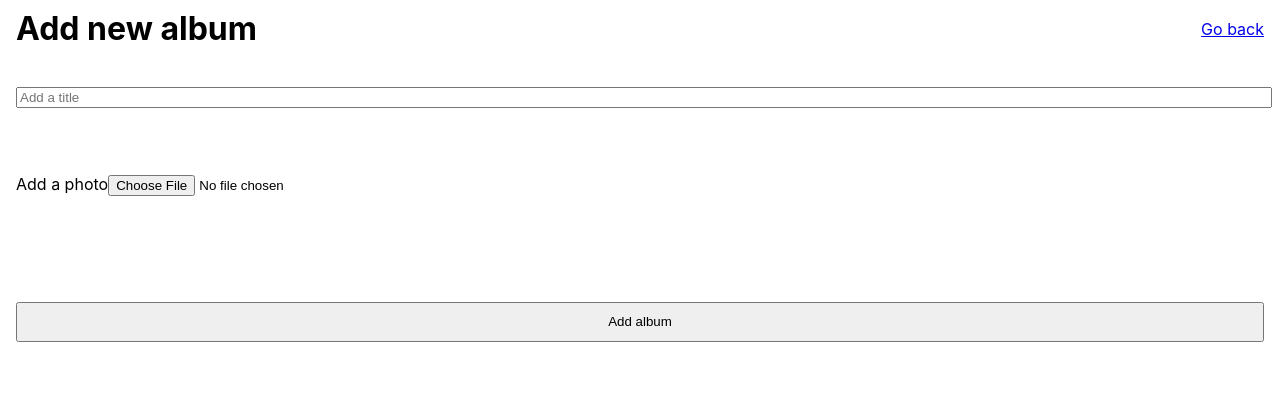
Test case: AddAlbumPage › allows the user to create a new album › when the user submits an album › when the album is invalid › shows an error
Type "new-title" into the field with placeholder "Add a title".
click(644, 97); type("new-title")  # box [16,87,1272,108]
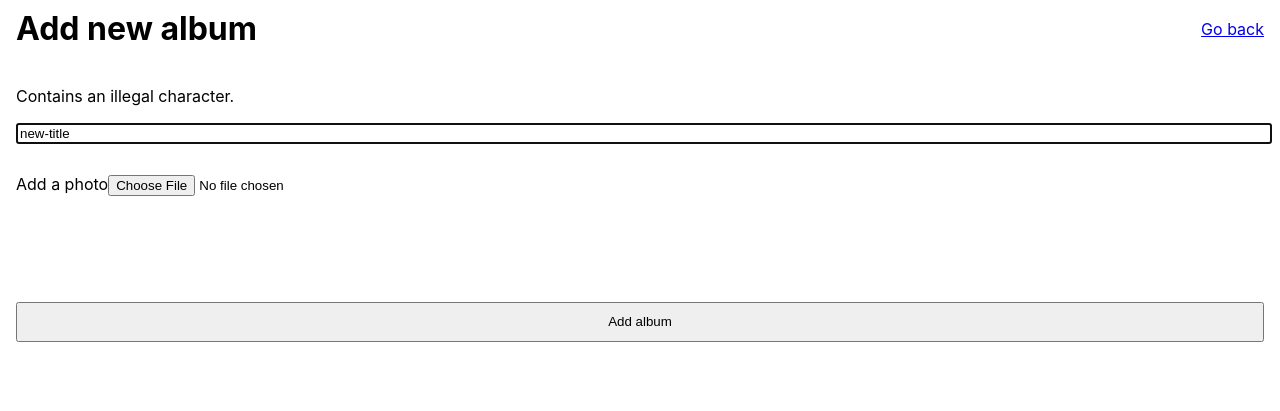
Click the button "Add album".
click(640, 322)  # box [16,302,1264,342]
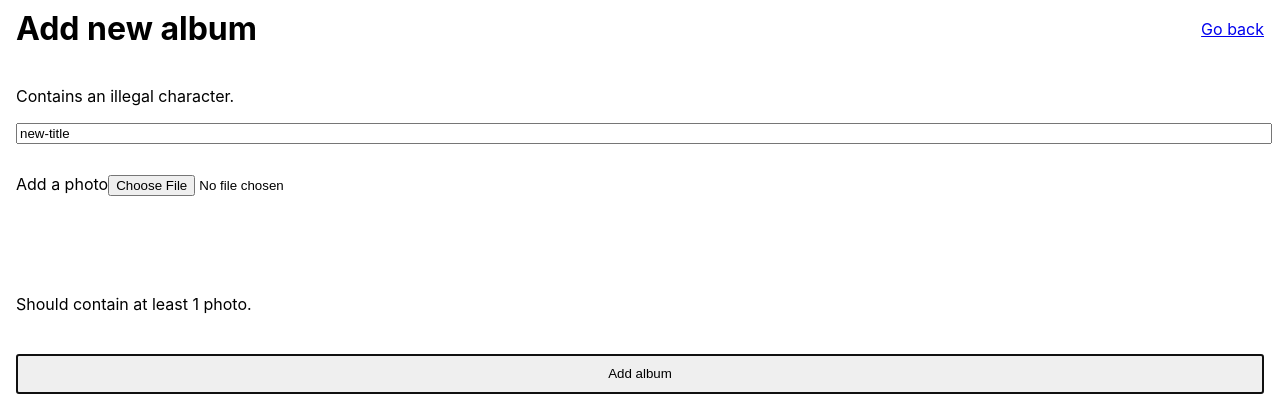
Expected: the text "Contains an illegal character." is shown, [16,86,234,106]
Expected: the text "Should contain at least 1 photo." is shown, [16,294,252,314]
